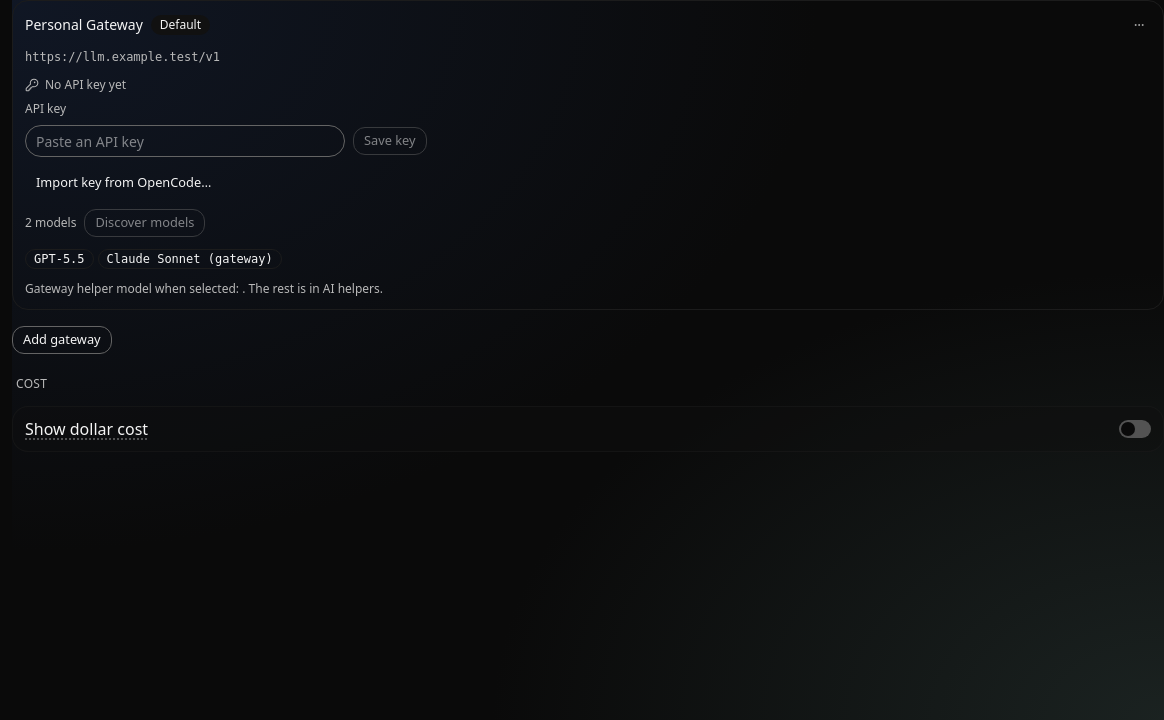
Test: GatewaysSettings › keeps a key that failed to save in its field, with the error
This screenshot has width=1164, height=720.
Type "sk-typed" into the password field labelled "API key".
click(185, 141); type("sk-typed")  # box [25,125,345,157]
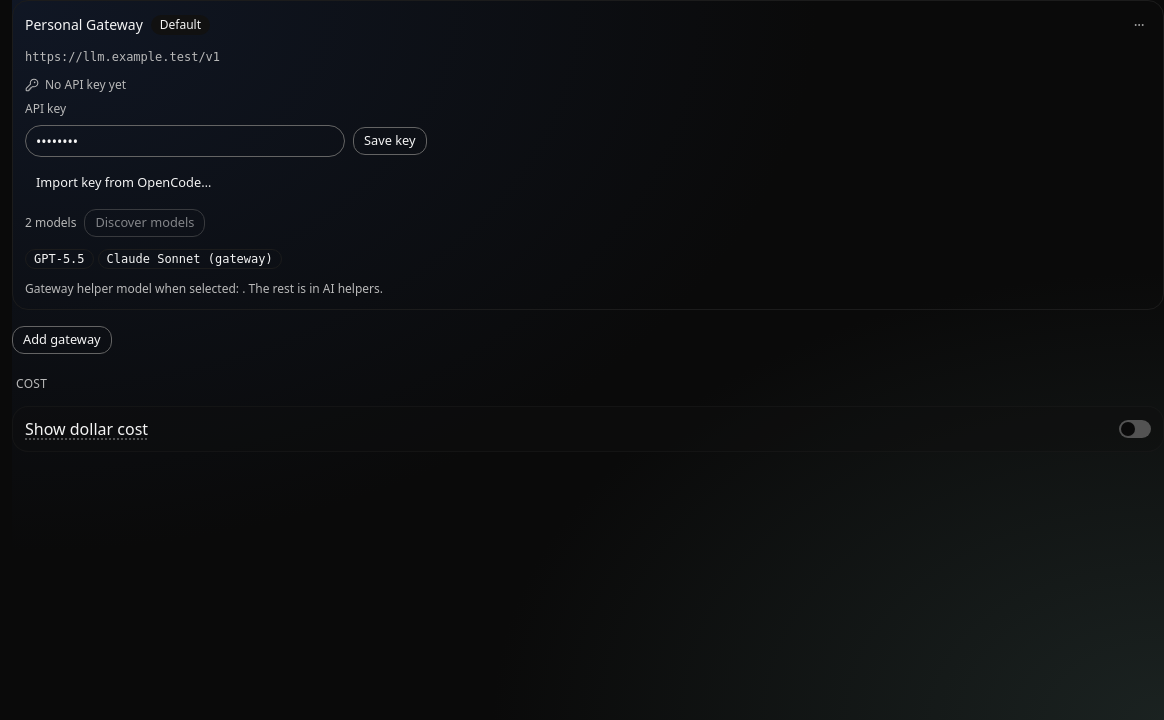
Click the button "Save key".
click(390, 141)  # box [353,127,427,155]
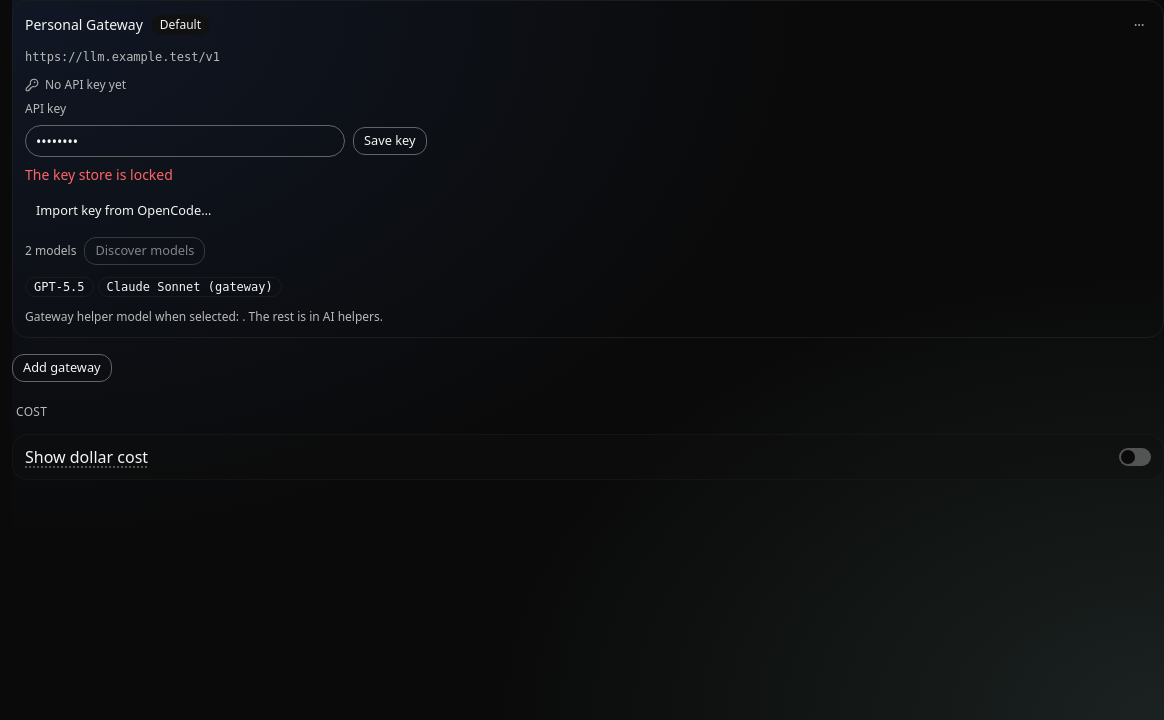
Check: the text "The key store is locked" is shown, box [25,165,173,184]
